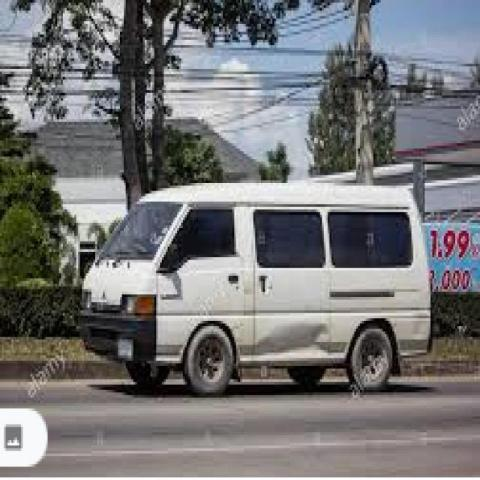van: (77, 178, 435, 393)
